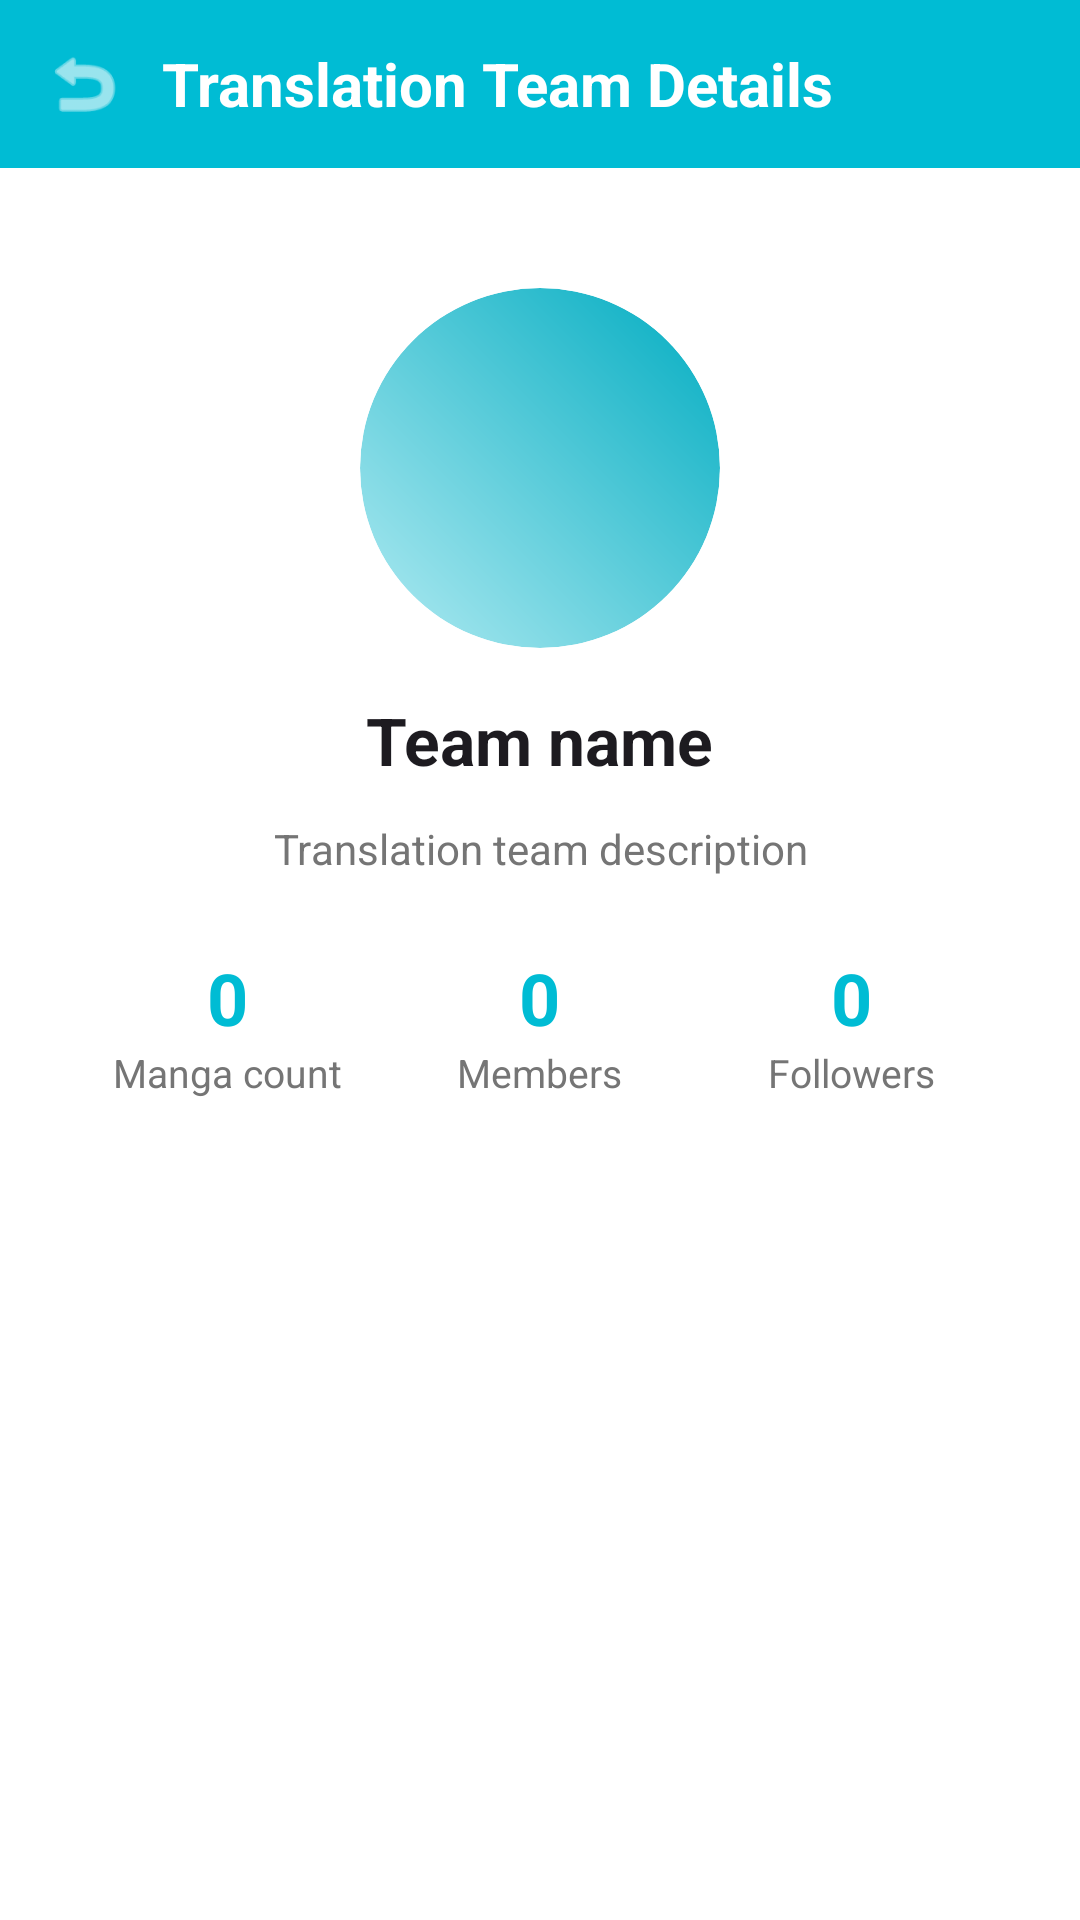

Icon bounding boxes for this 1080x1920 phone screenshot, format (x1, y1, x2, y2):
Back: (55, 57, 116, 112)
